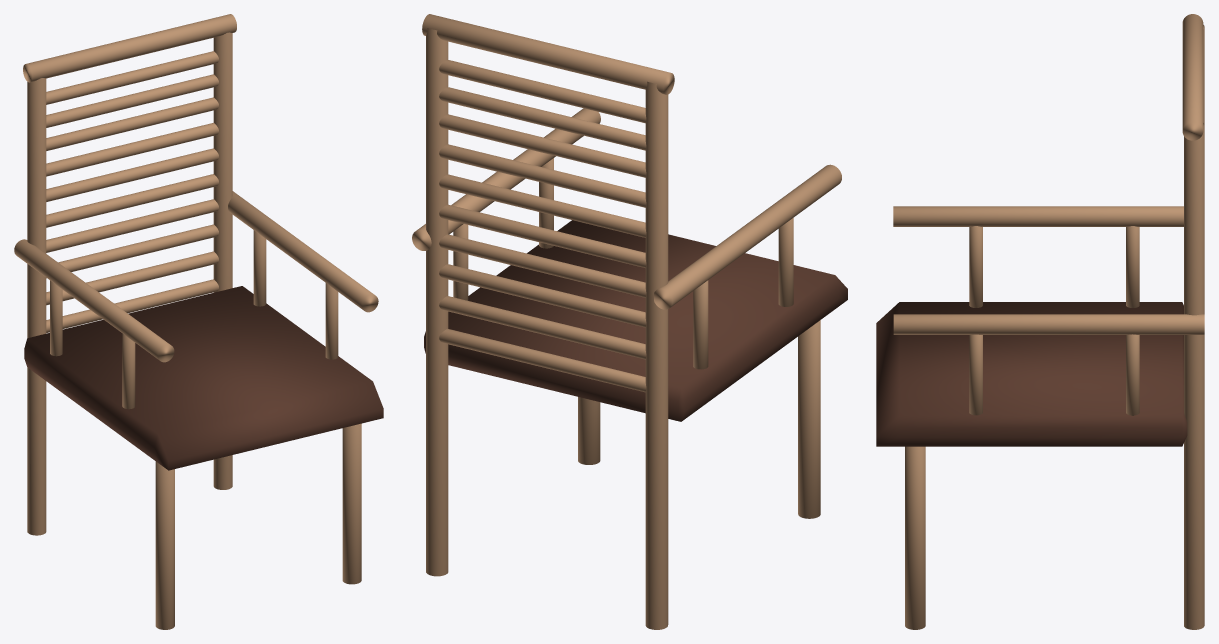
3 renders of one model, left to right at view 1: azimuth 30°, elevation 25°; view 2: azimuth 150°, elevation 25°; view 3: azimuth 270°, elevation 25°, orthographic. The views are drawn at different scales.
Parts seen in each view (by area): view 1: Cube, Cylinder.004, Cylinder.002, Cylinder.006, Cylinder.016, Cylinder.015, Cylinder, Cylinder.001, Cylinder.008, Cylinder.005, Cylinder.010, Cylinder.011 (+10 smaller); view 2: Cube, Cylinder.004, Cylinder.002, Cylinder.006, Cylinder.016, Cylinder, Cylinder.005, Cylinder.007, Cylinder.003, Cylinder.013, Cylinder.008, Cylinder.014 (+10 smaller); view 3: Cube, Cylinder.002, Cylinder.015, Cylinder.016, Cylinder.001, Cylinder.006, Cylinder.017, Cylinder.018, Cylinder.019, Cylinder.020.
Boxes of the visible parts, <box> form: Cube: <box>24,286,383,470</box>; Cylinder.004: <box>27,78,46,535</box>; Cylinder.002: <box>213,32,232,489</box>; Cylinder.006: <box>23,14,236,82</box>; Cylinder.016: <box>14,239,174,362</box>; Cylinder.015: <box>228,191,378,312</box>; Cylinder: <box>155,461,174,629</box>; Cylinder.001: <box>342,423,361,584</box>; Cylinder.008: <box>46,122,218,176</box>; Cylinder.005: <box>46,51,218,104</box>; Cylinder.010: <box>46,174,218,227</box>; Cylinder.011: <box>46,199,218,252</box>; Cube: <box>424,220,847,421</box>; Cylinder.004: <box>645,81,668,629</box>; Cylinder.002: <box>426,28,448,576</box>; Cylinder.006: <box>422,14,674,94</box>; Cylinder.016: <box>654,164,841,309</box>; Cylinder: <box>798,320,820,518</box>; Cylinder.005: <box>439,59,646,123</box>; Cylinder.007: <box>439,87,646,150</box>; Cylinder.003: <box>439,114,646,177</box>; Cylinder.013: <box>439,296,646,359</box>; Cylinder.008: <box>439,144,646,207</box>; Cylinder.014: <box>439,328,646,392</box>; Cube: <box>876,302,1187,446</box>; Cylinder.002: <box>1184,123,1204,629</box>; Cylinder.015: <box>893,314,1204,334</box>; Cylinder.016: <box>893,206,1183,226</box>; Cylinder.001: <box>905,446,925,629</box>; Cylinder.006: <box>1182,14,1203,140</box>; Cylinder.017: <box>1126,226,1139,307</box>; Cylinder.018: <box>969,226,982,307</box>; Cylinder.019: <box>1126,334,1139,415</box>; Cylinder.020: <box>969,334,982,415</box>.
Bounding box in the file's own units: 0.4 × 0.8118 × 0.4753.
